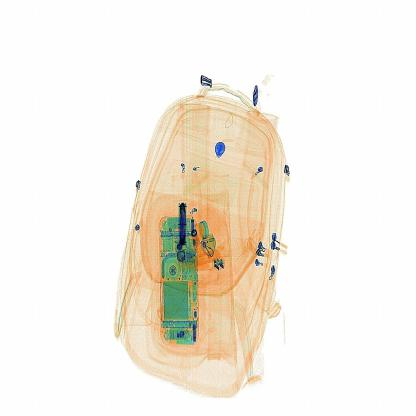scissors: (175, 191, 196, 246)
